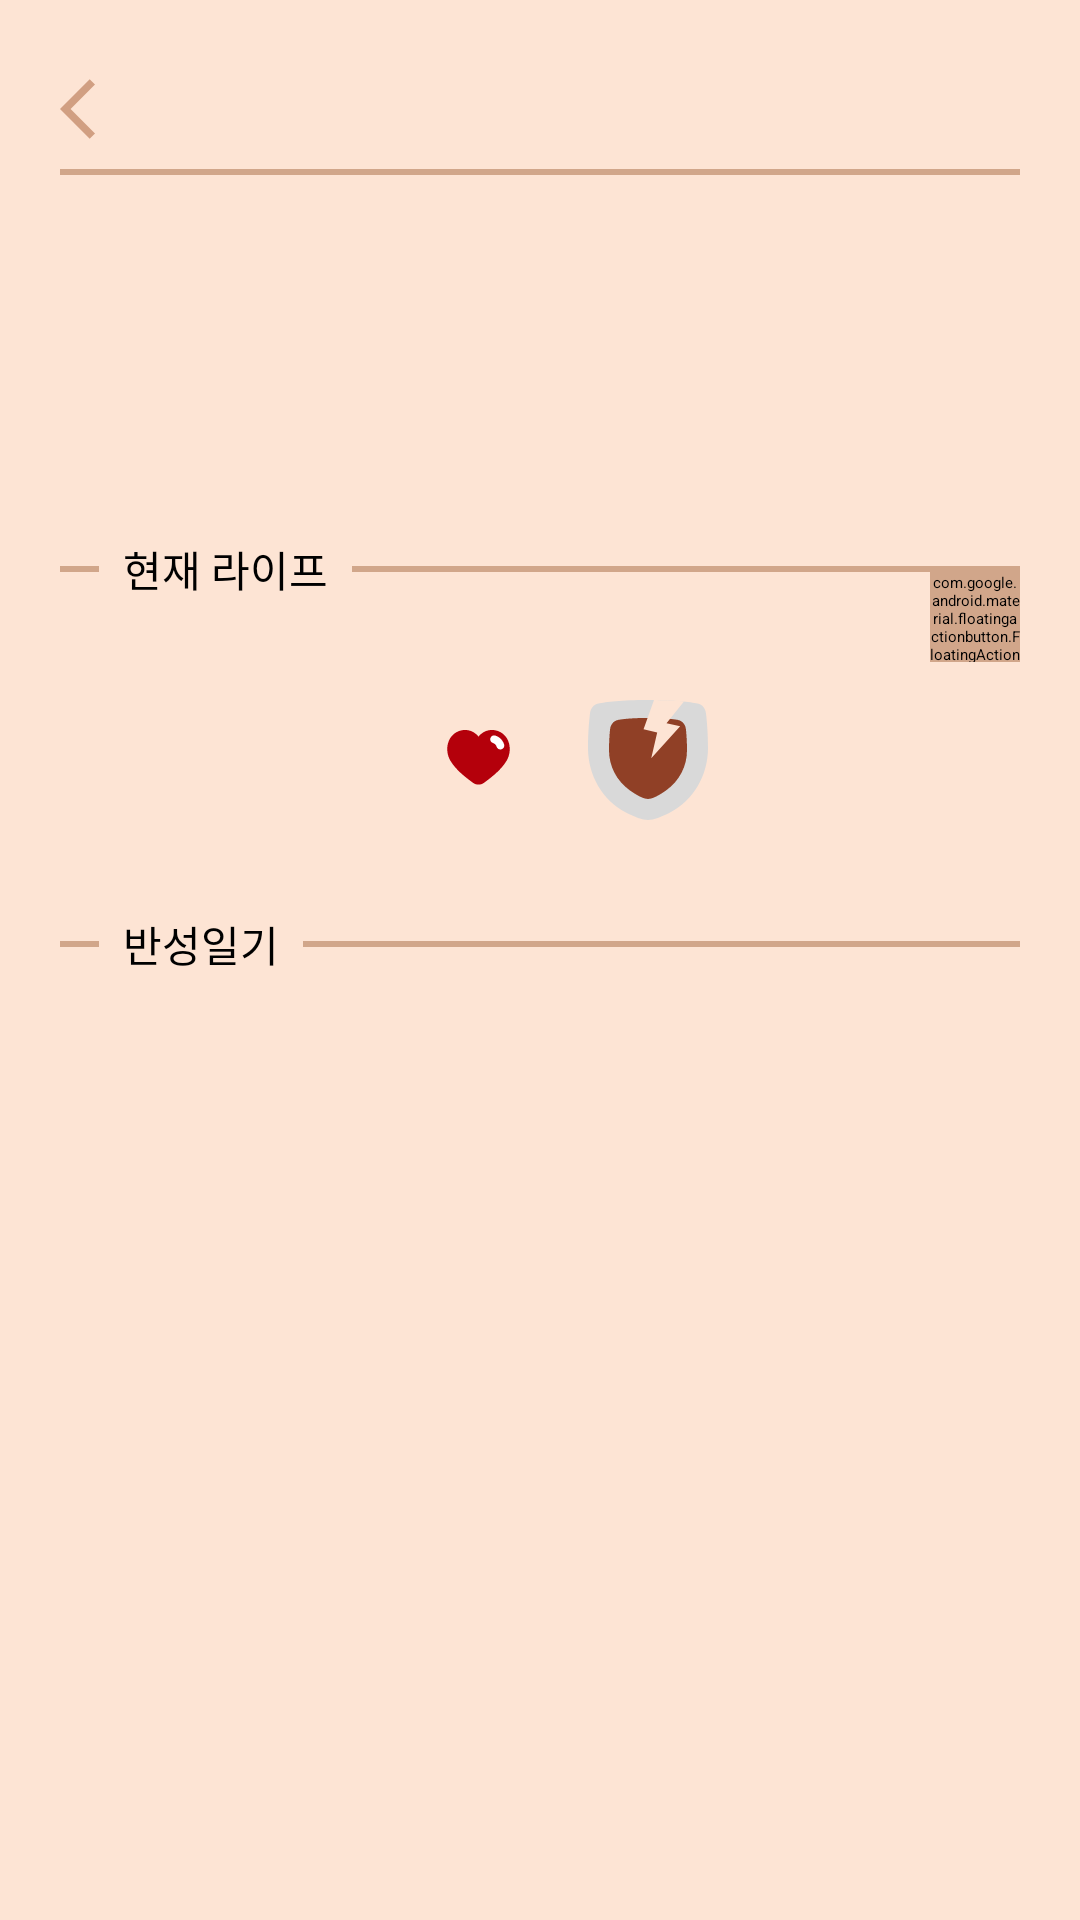

Screen size 1080w x 1920h. Icon name, then its center in pixels as (x,y):
backpage: (77,109)
heart: (478,757)
shield: (648,760)
